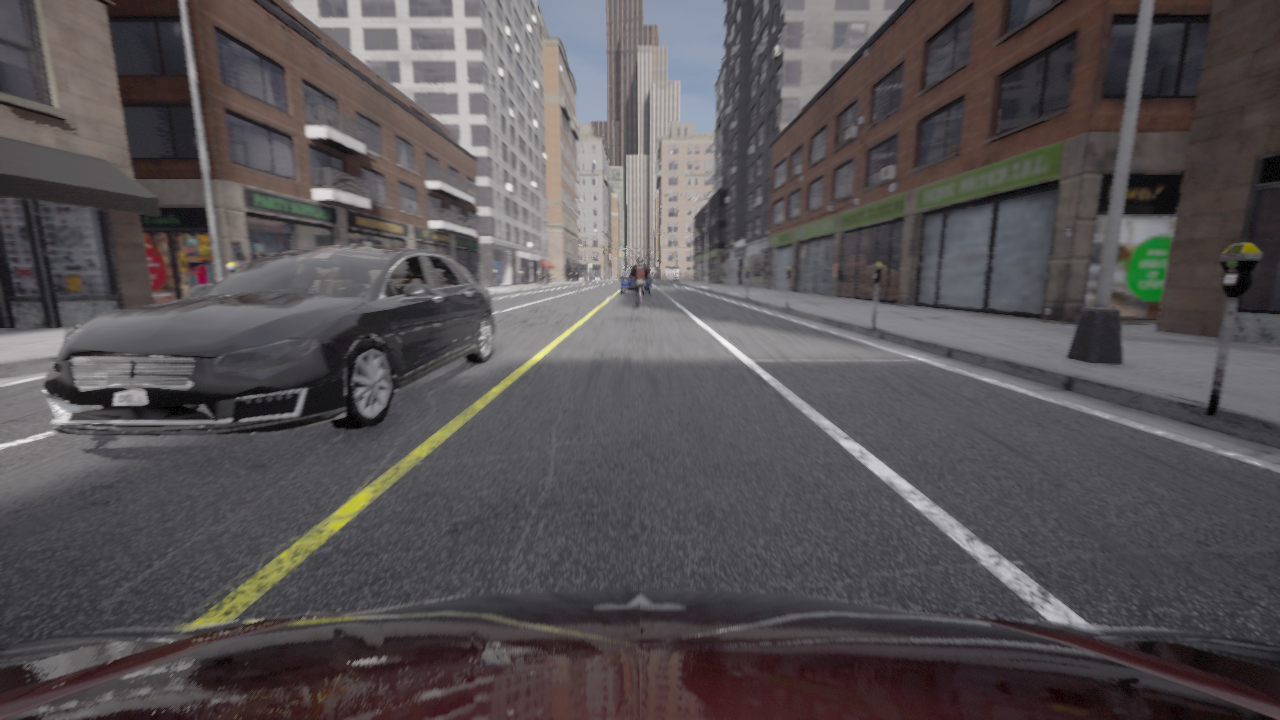cyclist: (0, 588, 1279, 719), (41, 244, 494, 436), (620, 269, 651, 293), (636, 285, 641, 308)
